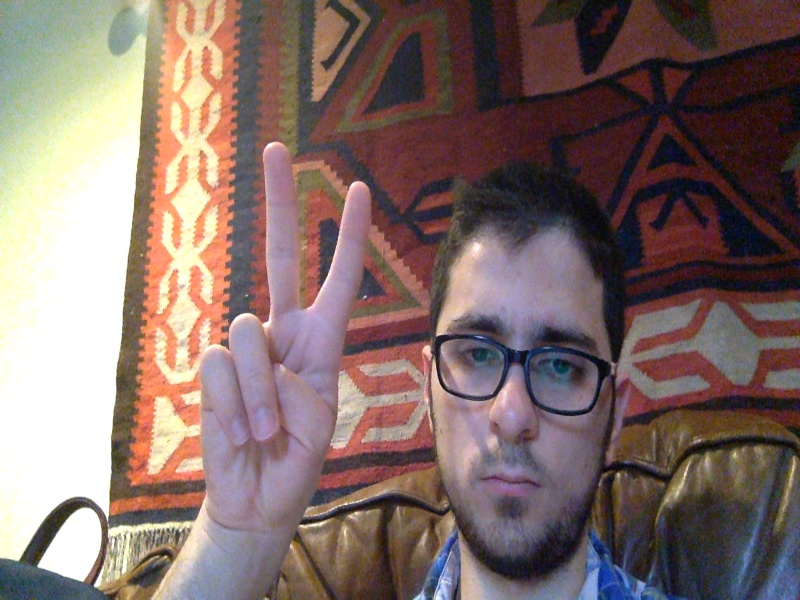2-hand: (198, 139, 369, 518)
